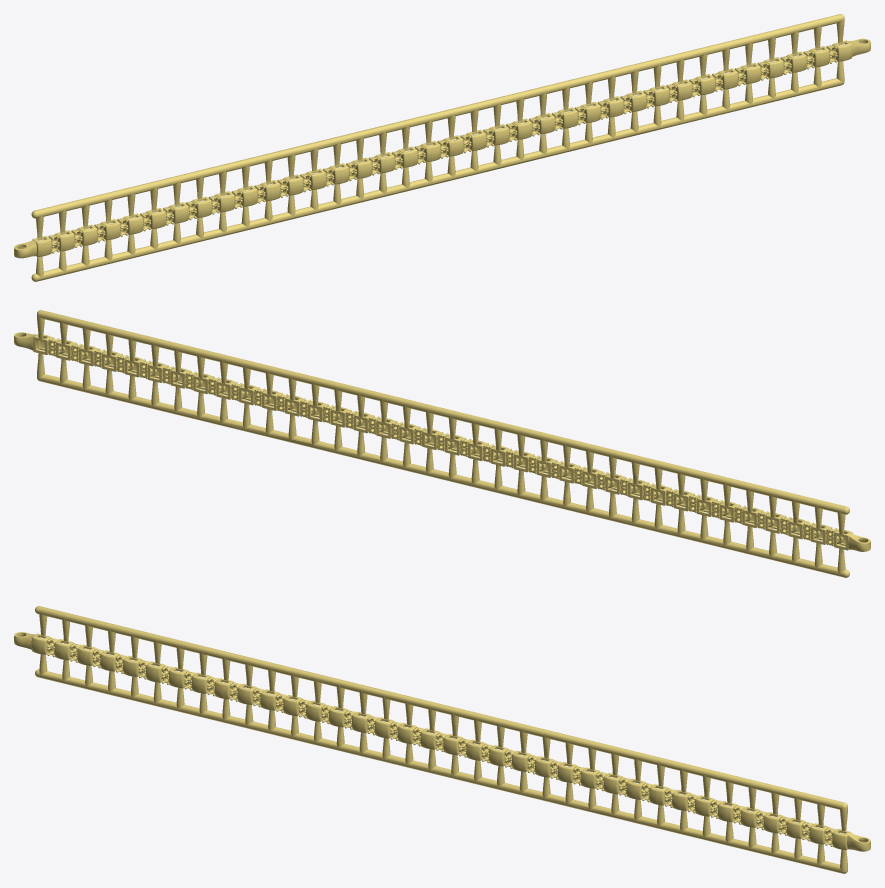
The model's file is yzn5-90_4.glb.
3 views of the same model, one above another, from view 1: azimuth 30°, elevation 25°; view 2: azimuth 150°, elevation 25°; view 3: azimuth 330°, elevation 25° (orthographic).
Visible parts, largest first — view 1: Renderer Node; view 2: Renderer Node; view 3: Renderer Node.
Part boxes in pixels (<box>): Renderer Node: <box>14,14,870,281</box>; Renderer Node: <box>14,310,870,577</box>; Renderer Node: <box>14,606,870,873</box>.
Size of the model in its own units: 181 by 14.25 by 2.9.
